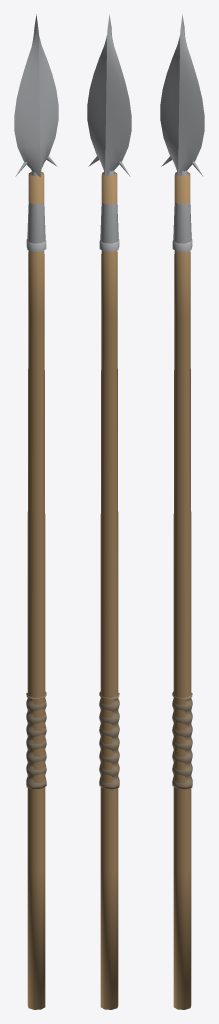
Rendered from sibat.glb.
3 views of the same model, side by side, from view 1: azimuth 30°, elevation 25°; view 2: azimuth 150°, elevation 25°; view 3: azimuth 330°, elevation 25° (orthographic).
Visible parts, largest first — view 1: sibat; view 2: sibat; view 3: sibat.
Part boxes in pixels (x1,y1,x2,y2): sibat: (14,14,58,1009); sibat: (87,14,131,1009); sibat: (160,14,204,1009).
Size of the model in its own units: 0.1779 by 3.82 by 0.0708.
